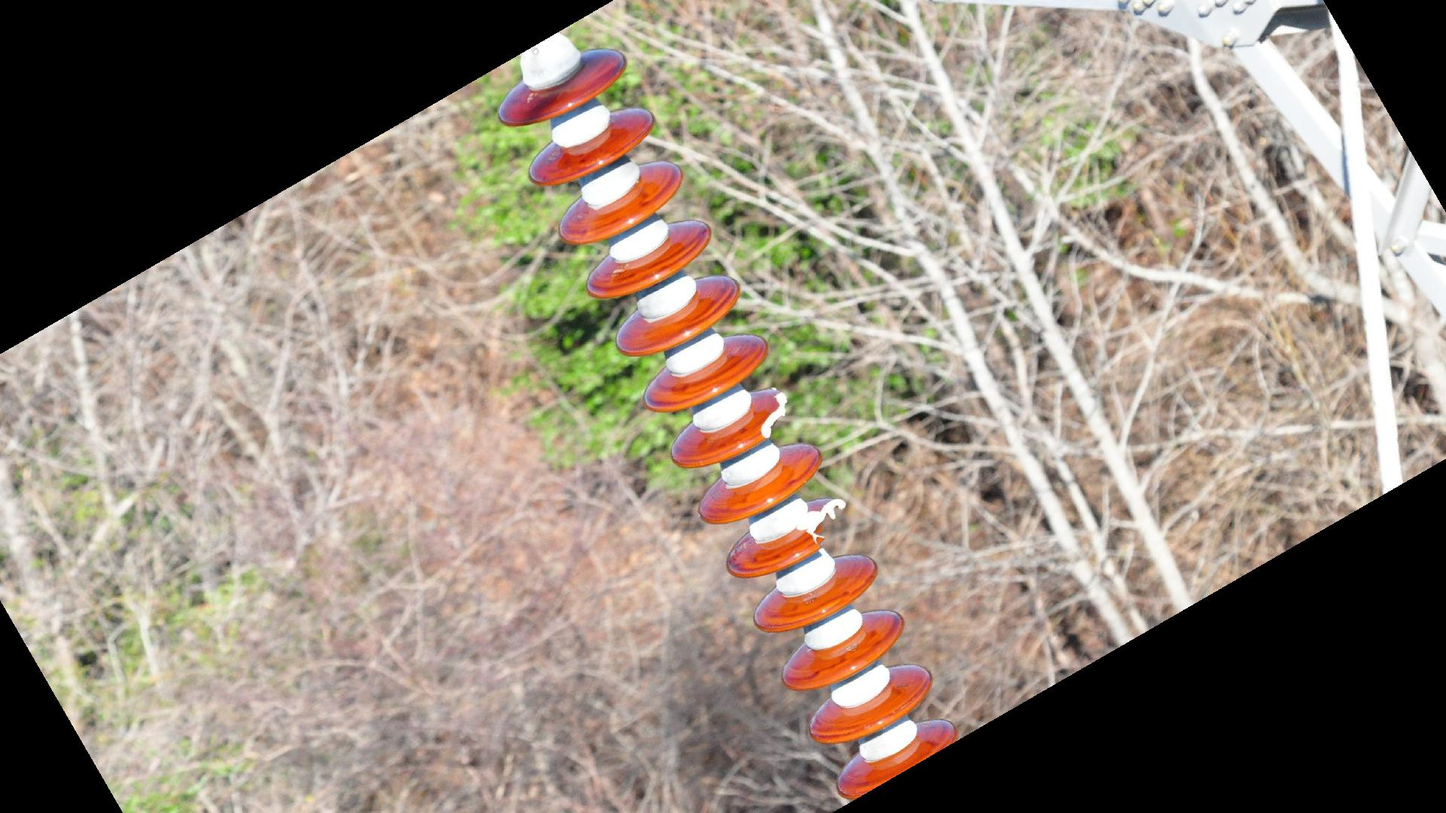insulator: (494, 42, 963, 808)
insulator_breakage: (795, 495, 850, 556), (755, 383, 791, 444)
